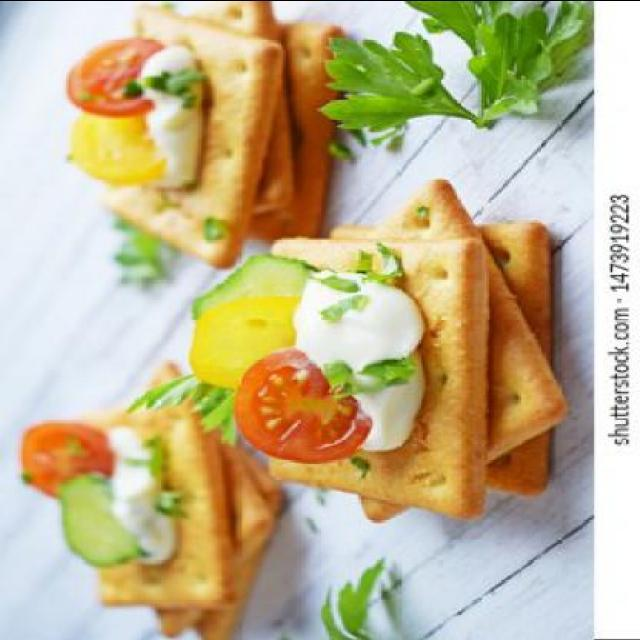Cracker packaged: (239, 195, 501, 522), (80, 2, 283, 260)
Tomato: (235, 349, 363, 466)
